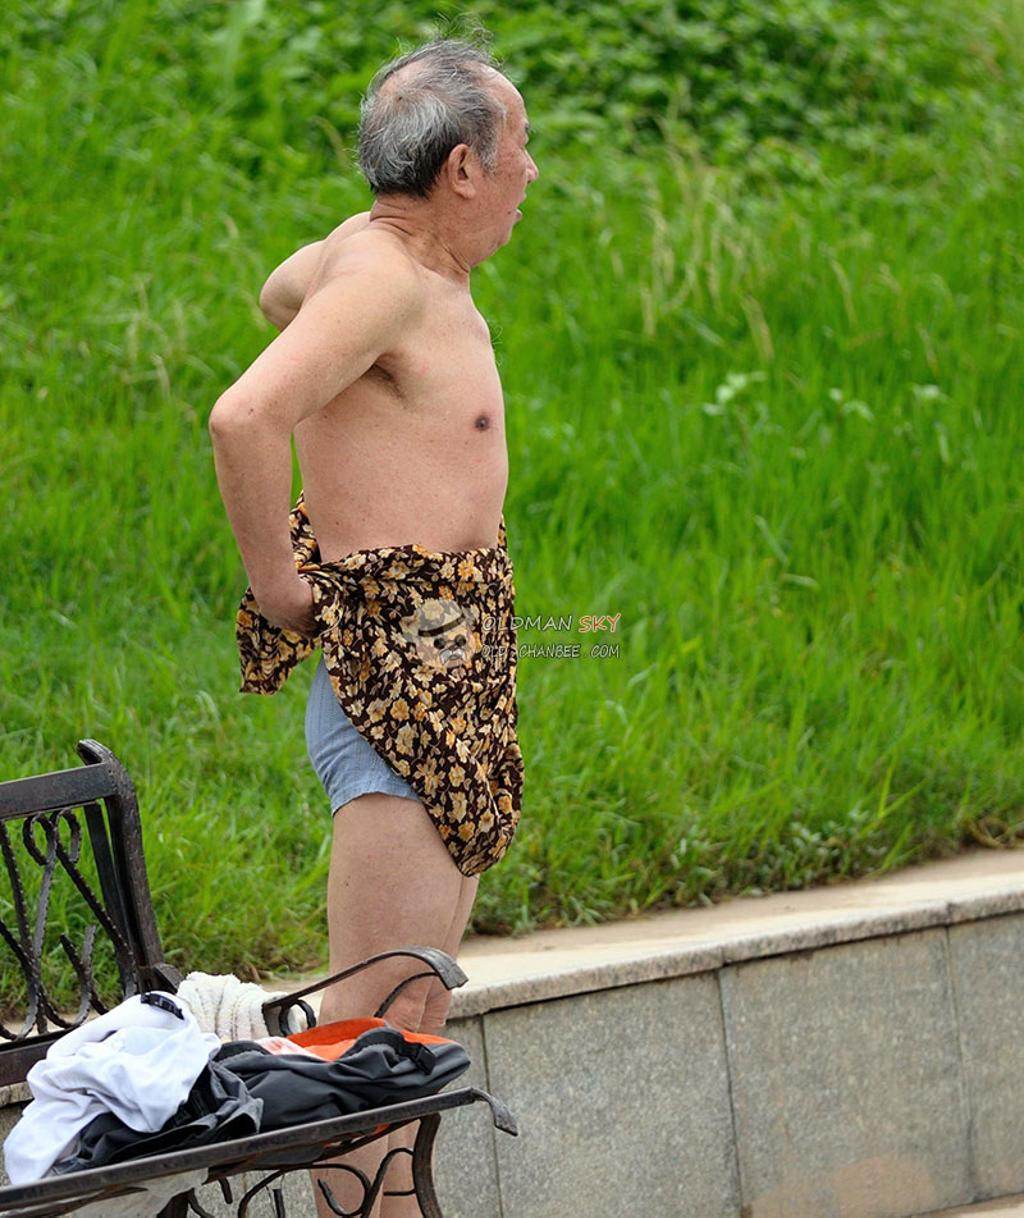face: (468, 97, 544, 242)
